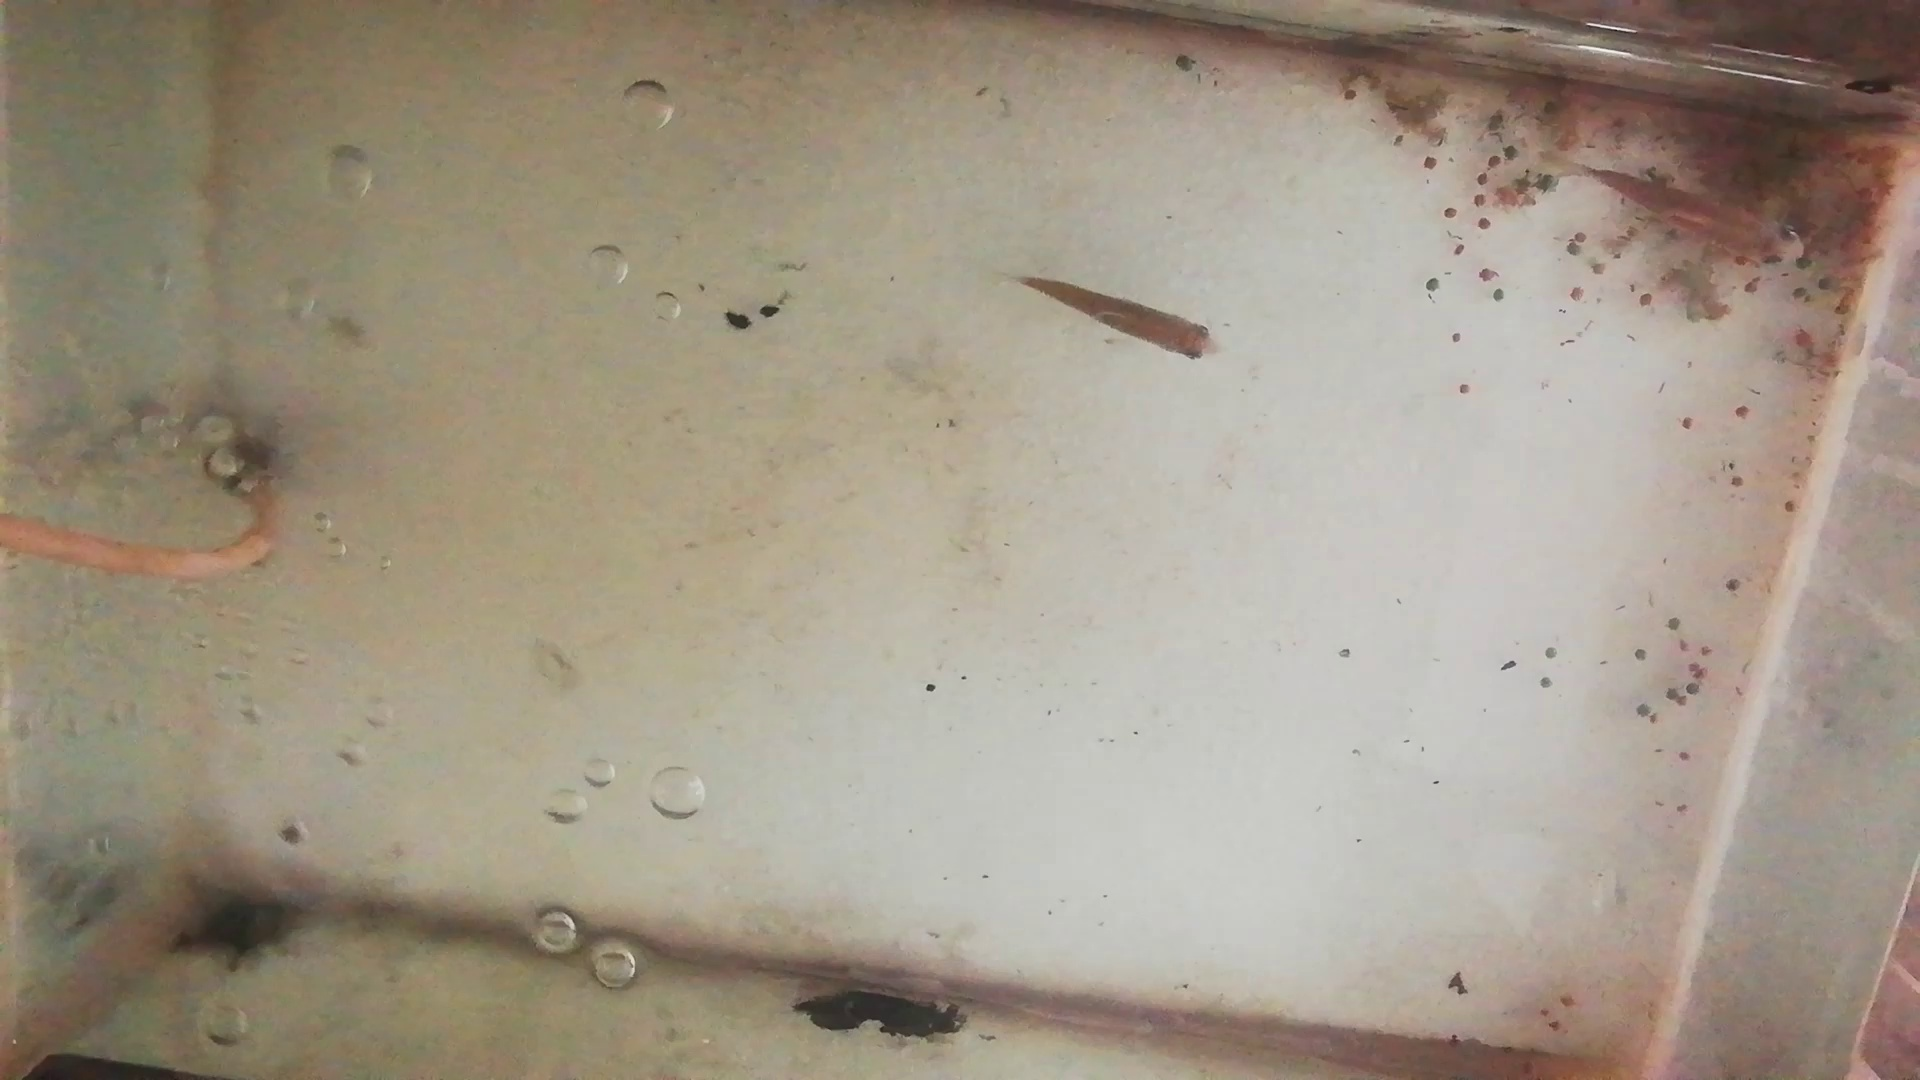fish: (1586, 164, 1811, 266), (1021, 265, 1225, 356)
